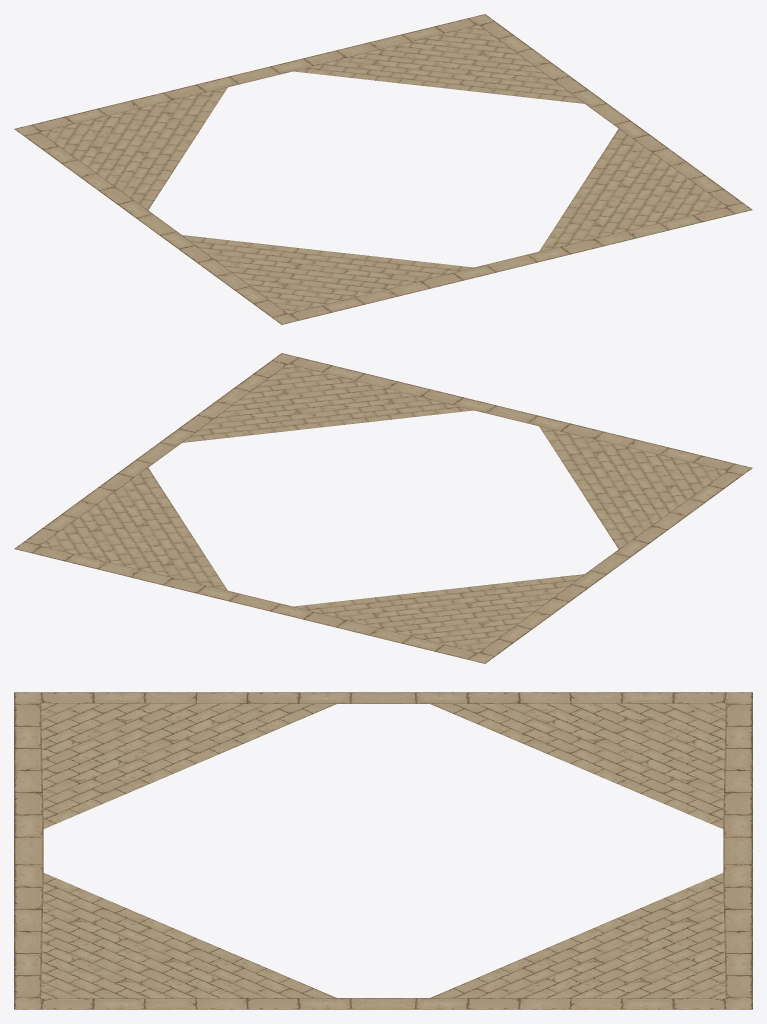
The model's file is Ground02_Build_LostTemple_002.FBX.
The picture shows the model from 3 angles, top to bottom: view 1: azimuth 30°, elevation 25°; view 2: azimuth 150°, elevation 25°; view 3: azimuth 270°, elevation 25°; orthographic projection. The views are drawn at different scales.
Visible parts, largest first — view 1: Ground02_Build_LostTemple_002; view 2: Ground02_Build_LostTemple_002; view 3: Ground02_Build_LostTemple_002.
Part boxes in pixels (x1,y1,x2,y2): Ground02_Build_LostTemple_002: (14,14,752,324); Ground02_Build_LostTemple_002: (14,353,752,663); Ground02_Build_LostTemple_002: (14,692,752,1009).
Bounding box in the file's own units: 2404 × 0.000103 × 2366.
1 material, 1 textured.
